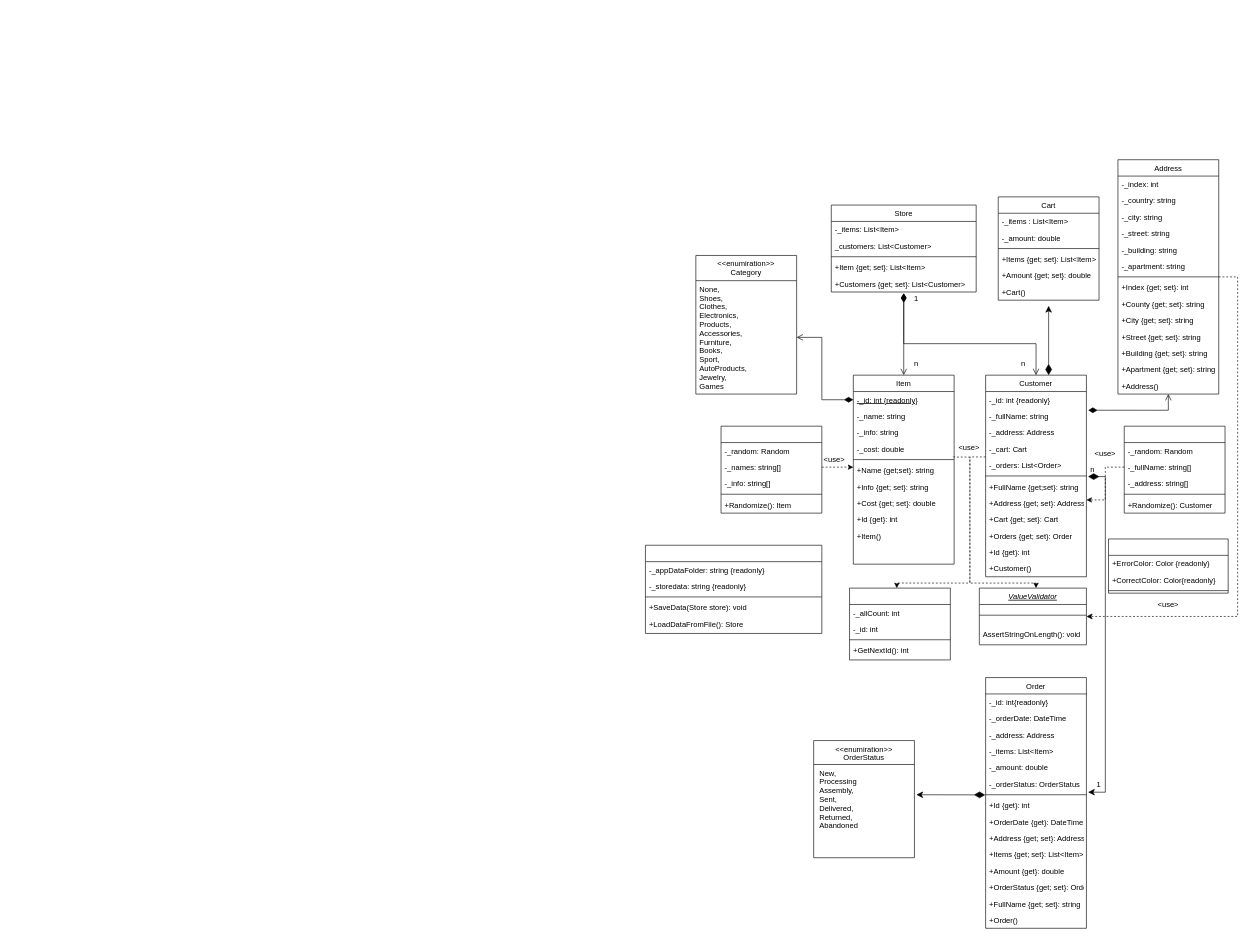
Image size: 1254x941. Some labels were removed from this diagram. Here are the shapes that lost their labels. From the top down, the box of each, then its label:
(720, 426, 822, 513): ItemFactory
(1124, 426, 1225, 513): CustomerFactory
(1108, 538, 1228, 593): AppColors
(645, 545, 822, 633): ProjectSerializer
(849, 587, 950, 660): IdGenerator
